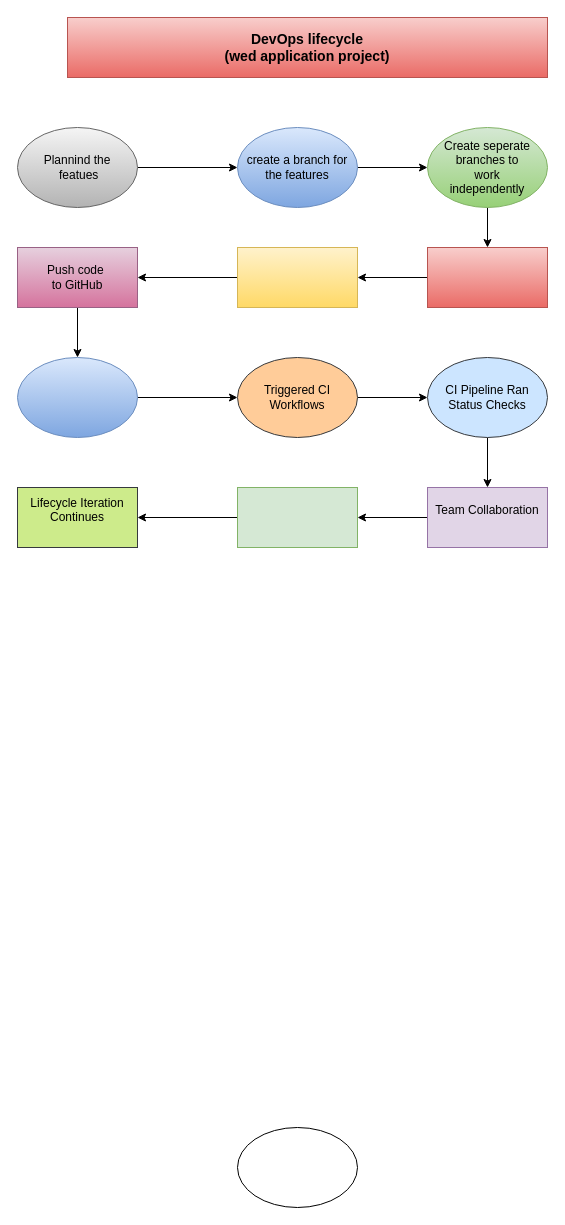
The diagram is 565 pixels wide and 1225 high, and some of its shapes have lost their labels. The centre of each missing label's shape, as x and y in pixels:
comments for the html code: (297,517)
Commit the changes: (297,277)
Edited the HTML file(instag.html): (487,277)
Open pull Request(pr): (77,397)
